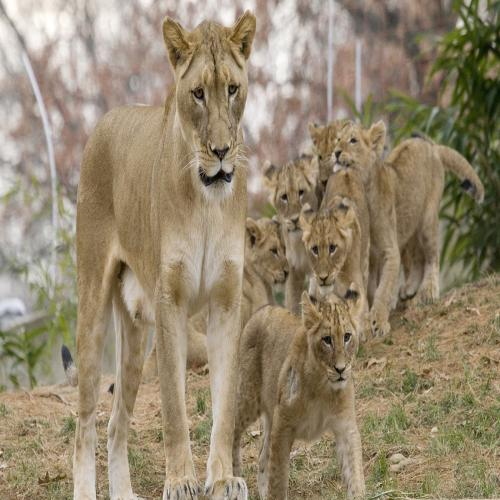lion-endangered: (67, 8, 255, 500), (333, 120, 487, 342), (118, 215, 290, 391), (232, 284, 366, 500), (300, 163, 371, 344), (259, 155, 321, 274), (308, 114, 342, 192)
